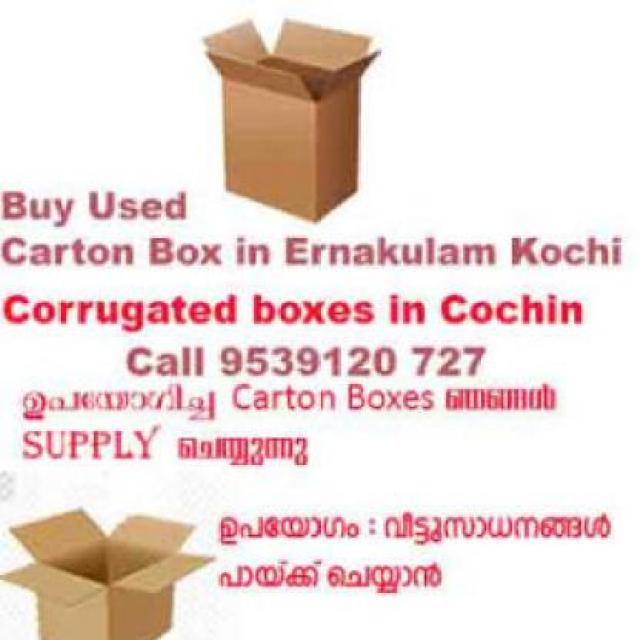box: (198, 19, 419, 232), (0, 502, 212, 639)
